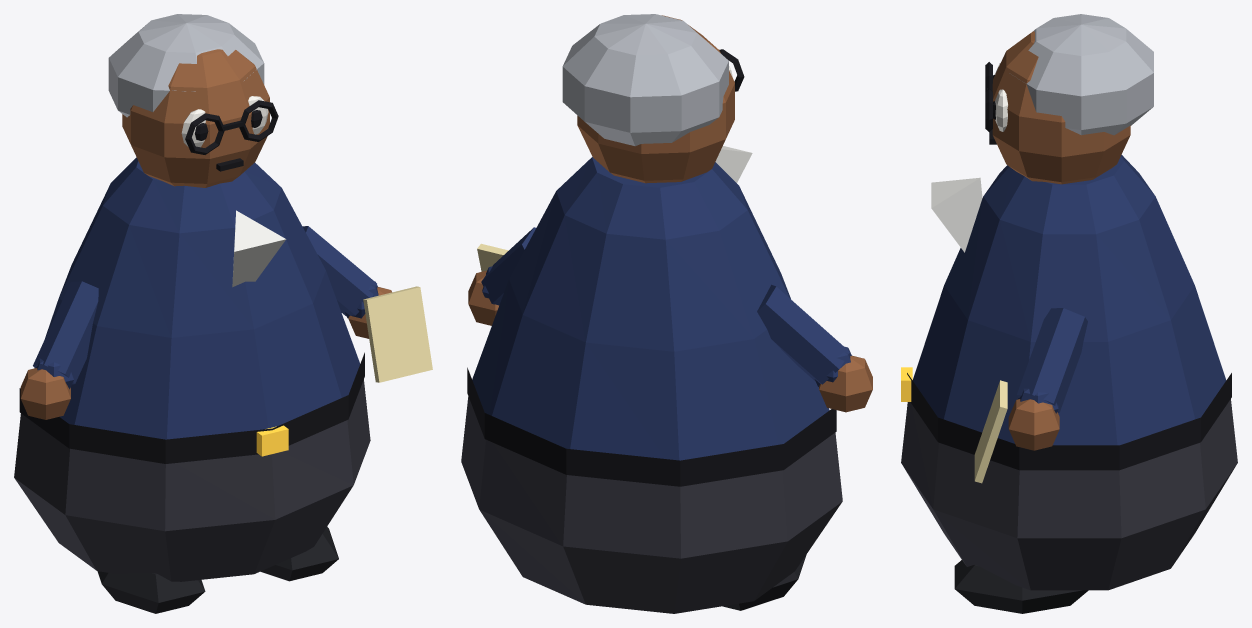
The model's file is npc_moderadora.glb.
The picture shows the model from 3 angles, left to right: view 1: azimuth 30°, elevation 25°; view 2: azimuth 150°, elevation 25°; view 3: azimuth 270°, elevation 25°; orthographic projection. The views are drawn at different scales.
Parts seen in each view (by area): view 1: body_moderator_blazer, body_moderator_skirt, head_skin_cacao, head_moderator_hair, body_black, arms_moderator_blazer, props_question_cards, legs_moderator_shoes, arms_skin_cacao, body_moderator_shirt, face_black, body_gold (+1 smaller); view 2: body_moderator_blazer, body_moderator_skirt, head_moderator_hair, body_black, head_skin_cacao, arms_moderator_blazer, arms_skin_cacao, legs_moderator_shoes, body_moderator_shirt; view 3: body_moderator_blazer, body_moderator_skirt, head_moderator_hair, head_skin_cacao, body_black, arms_moderator_blazer, legs_moderator_shoes, body_moderator_shirt, arms_skin_cacao, props_question_cards, face_black, face_white.
Part boxes in pixels (box(x1,y1,x2,y2)): body_moderator_blazer: box(45, 157, 359, 439); body_moderator_skirt: box(14, 379, 370, 581); head_skin_cacao: box(122, 49, 269, 187); head_moderator_hair: box(108, 14, 264, 117); body_black: box(19, 352, 364, 463); arms_moderator_blazer: box(33, 226, 378, 389); props_question_cards: box(363, 286, 432, 382); legs_moderator_shoes: box(97, 526, 338, 613); arms_skin_cacao: box(20, 287, 391, 419); body_moderator_shirt: box(232, 210, 286, 287); face_black: box(185, 100, 278, 171); body_gold: box(256, 425, 288, 456); body_moderator_blazer: box(472, 157, 829, 460); body_moderator_skirt: box(461, 396, 842, 613); head_moderator_hair: box(562, 14, 728, 146); body_black: box(467, 367, 836, 486); head_skin_cacao: box(577, 15, 734, 183); arms_moderator_blazer: box(481, 227, 851, 386); arms_skin_cacao: box(468, 270, 872, 412); legs_moderator_shoes: box(723, 554, 806, 610); body_moderator_shirt: box(715, 146, 752, 182); body_moderator_blazer: box(912, 154, 1226, 445); body_moderator_skirt: box(901, 399, 1237, 590); head_moderator_hair: box(1009, 14, 1153, 135); head_skin_cacao: box(992, 31, 1130, 184); body_black: box(907, 373, 1231, 470); arms_moderator_blazer: box(1017, 308, 1087, 413); legs_moderator_shoes: box(954, 560, 1088, 613); body_moderator_shirt: box(931, 177, 982, 252); arms_skin_cacao: box(1008, 399, 1059, 450); props_question_cards: box(974, 380, 1007, 483); face_black: box(985, 62, 996, 144); face_white: box(995, 63, 1007, 131).
Bounding box in the file's own units: 1.14 × 1.54 × 0.86.
